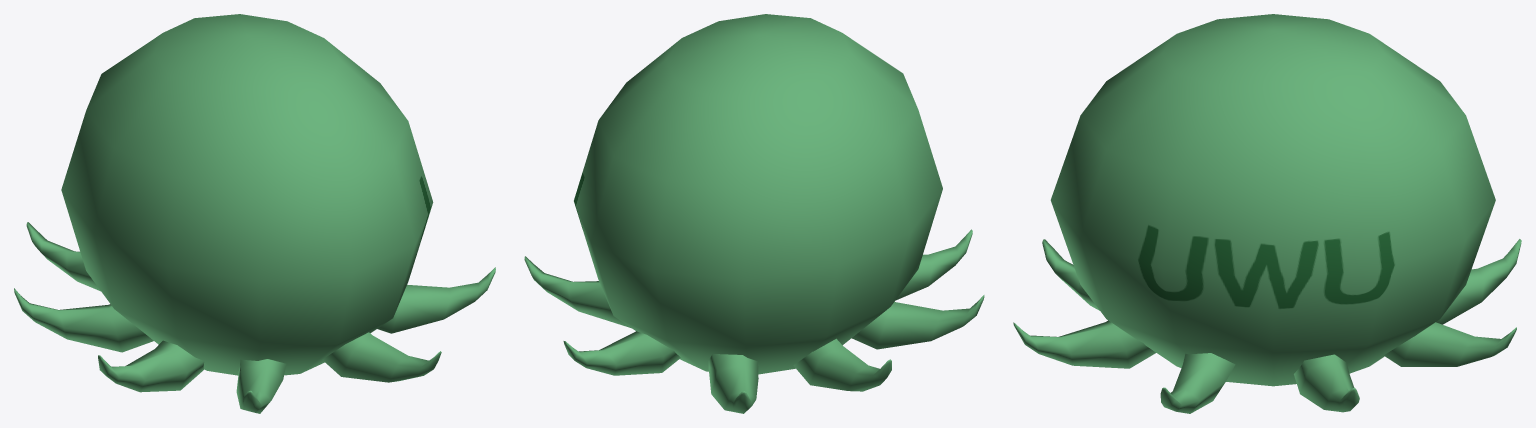
The model's file is Octopus Blob UWU GREEN (1).fbx.
3 views of the same model, side by side, from view 1: azimuth 30°, elevation 25°; view 2: azimuth 150°, elevation 25°; view 3: azimuth 270°, elevation 25° (orthographic). The views are drawn at different scales.
Parts seen in each view (by area): view 1: Cylinder006; view 2: Cylinder006; view 3: Cylinder006.
Boxes of the visible parts, left/top/right/bottom form: Cylinder006: left=14, top=14, right=495, bottom=413; Cylinder006: left=524, top=14, right=984, bottom=413; Cylinder006: left=1013, top=14, right=1521, bottom=413.
Size of the model in its own units: 17.84 by 13.75 by 19.36.
1 material, 1 textured.
